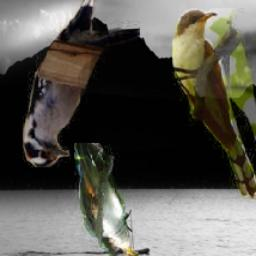Cuckoo: (172, 8, 256, 199), (74, 144, 139, 256)
Woodpecker: (23, 0, 140, 168)
